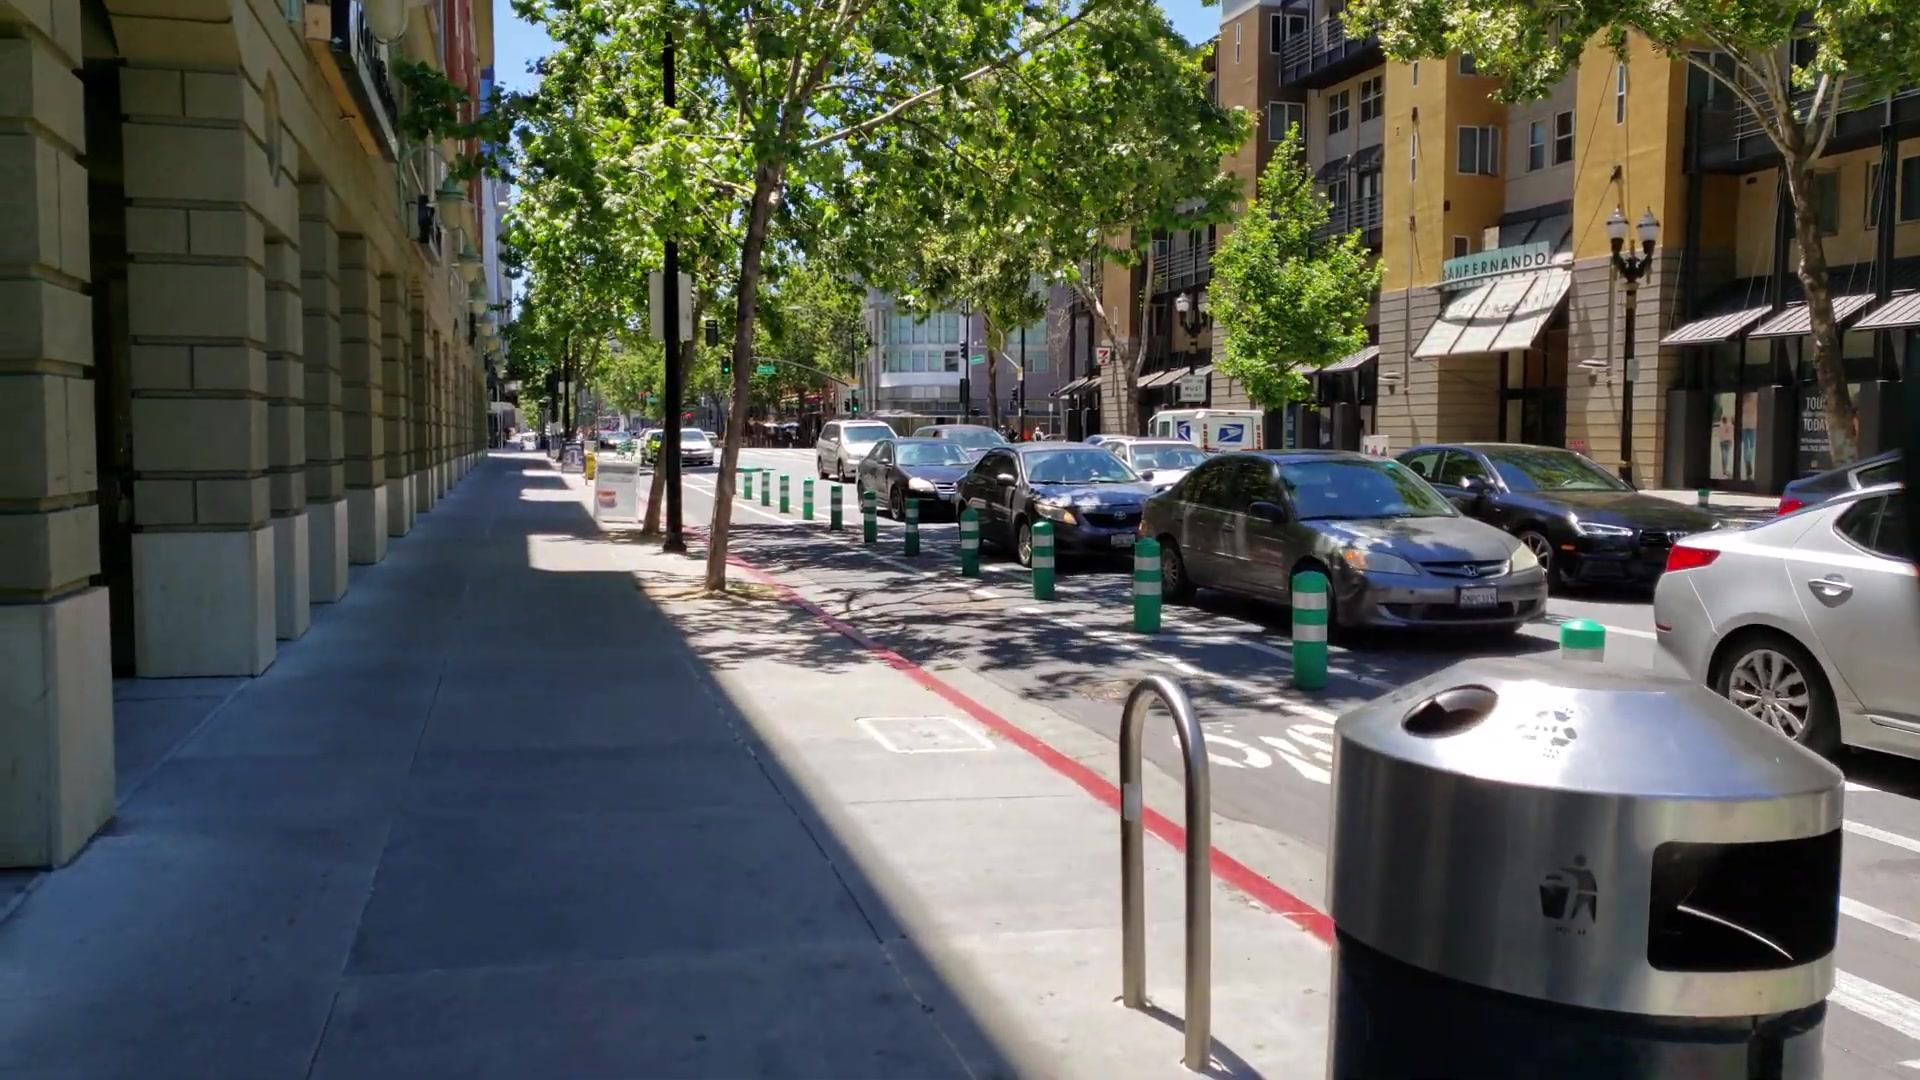vehicle: (1139, 451, 1548, 632), (957, 444, 1135, 559), (857, 430, 959, 535), (818, 419, 874, 472)
